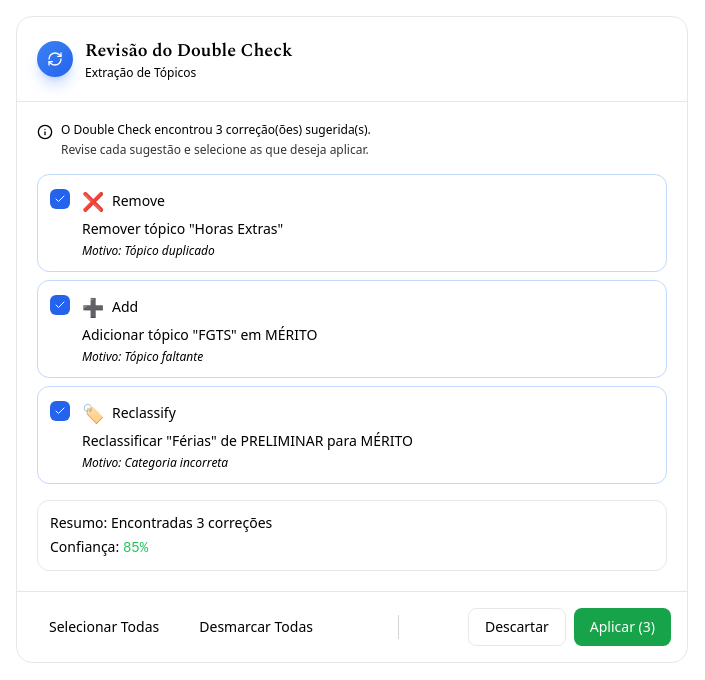
Test case: DoubleCheckReviewModal › Seleção de correções › "Selecionar Todas" marca todas as correções
Click the text "Remover tópico \"Horas Extras\"" at (352, 222), box [37,174,667,272]
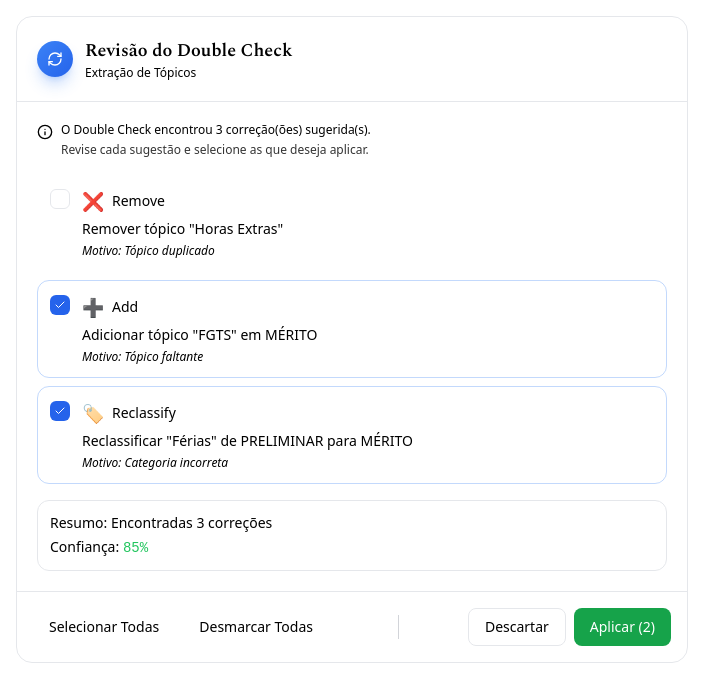
Expected: the button "Aplicar (2)" is shown, [574,608,671,646]
Agora clica em "Selecionar Todas"
Click the button "Selecionar Todas" at (104, 626), box [33,608,175,644]
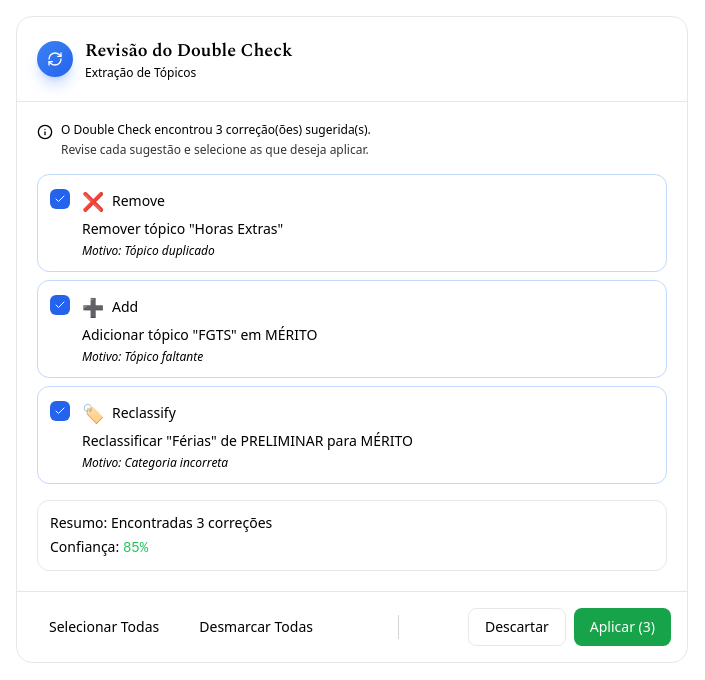
Expected: the button "Aplicar (3)" is shown, [574,608,671,646]
